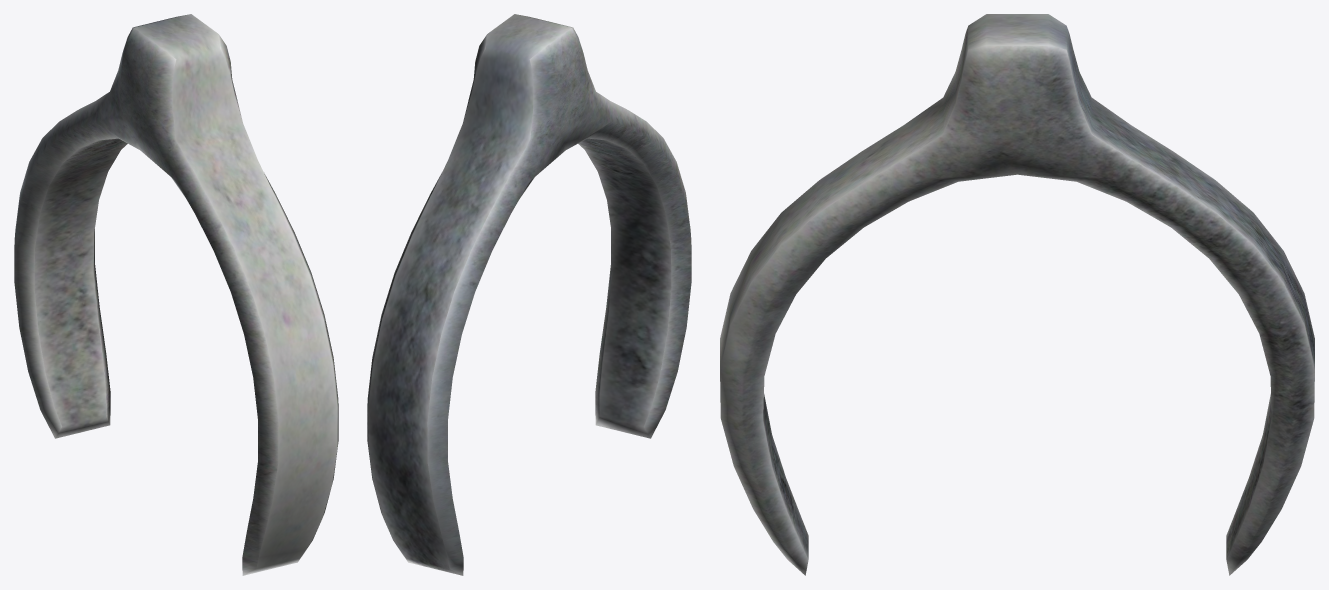
Rendered from zahvat.FBX.
3 views of the same model, side by side, from view 1: azimuth 30°, elevation 25°; view 2: azimuth 150°, elevation 25°; view 3: azimuth 270°, elevation 25° (orthographic). The views are drawn at different scales.
Visible parts, largest first — view 1: Box001; view 2: Box001; view 3: Box001.
Boxes of the visible parts, left/top/right/bottom form: Box001: left=14, top=14, right=338, bottom=575; Box001: left=367, top=14, right=691, bottom=575; Box001: left=720, top=14, right=1314, bottom=575.
Bounding box in the file's own units: 20.27 × 107 × 108.
